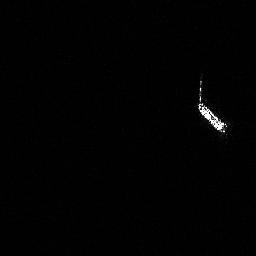ship: (194, 78, 232, 137)
